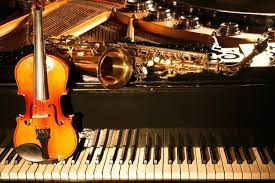Piano: (1, 79, 272, 183)
Saxophone: (29, 19, 275, 97)
Violin: (1, 1, 87, 163)
